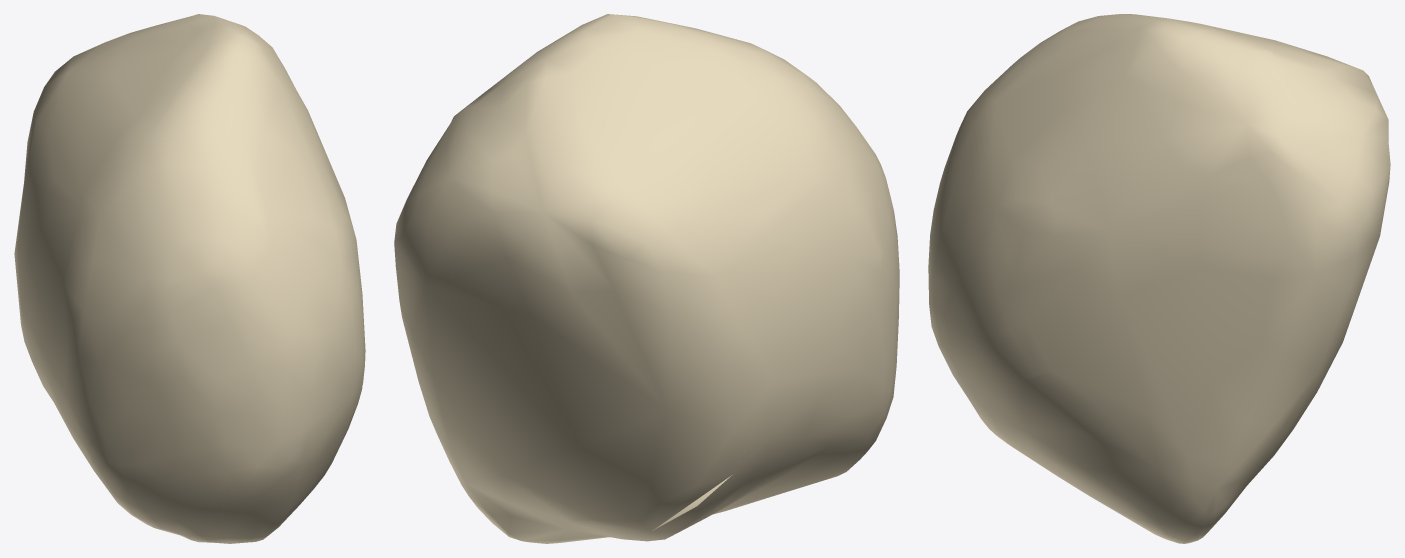
The model's file is esqueleto-pisiform-bone-r.glb.
3 views of the same model, side by side, from view 1: azimuth 30°, elevation 25°; view 2: azimuth 150°, elevation 25°; view 3: azimuth 270°, elevation 25° (orthographic). The views are drawn at different scales.
Visible parts, largest first — view 1: Pisiform bone.r; view 2: Pisiform bone.r; view 3: Pisiform bone.r.
Part boxes in pixels (x1,y1,x2,y2): Pisiform bone.r: (14,14,365,543); Pisiform bone.r: (394,14,899,543); Pisiform bone.r: (928,14,1390,543).
Size of the model in its own units: 0.00846 by 0.0121 by 0.0104.
